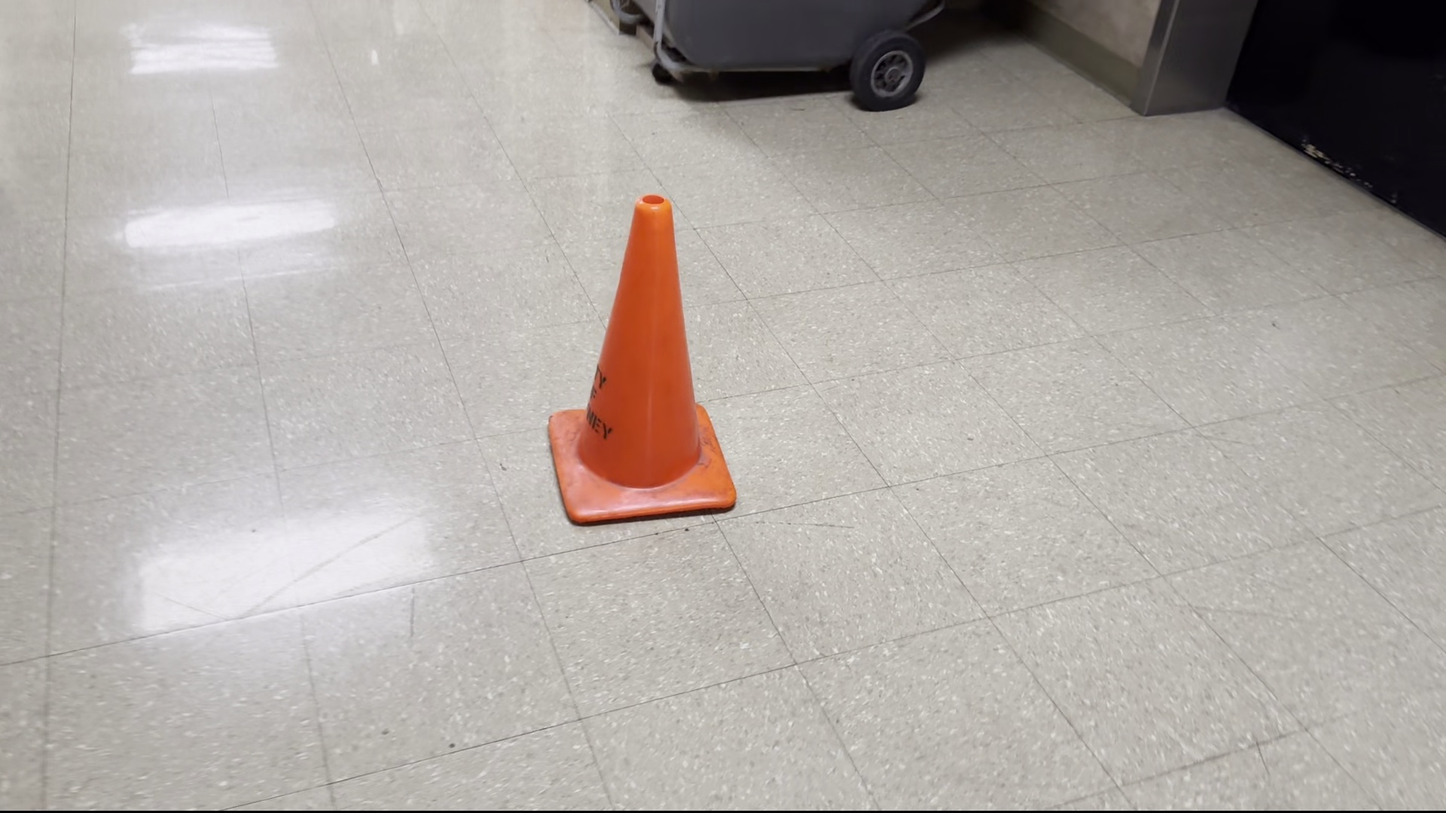traffic_cone: (546, 193, 737, 526)
